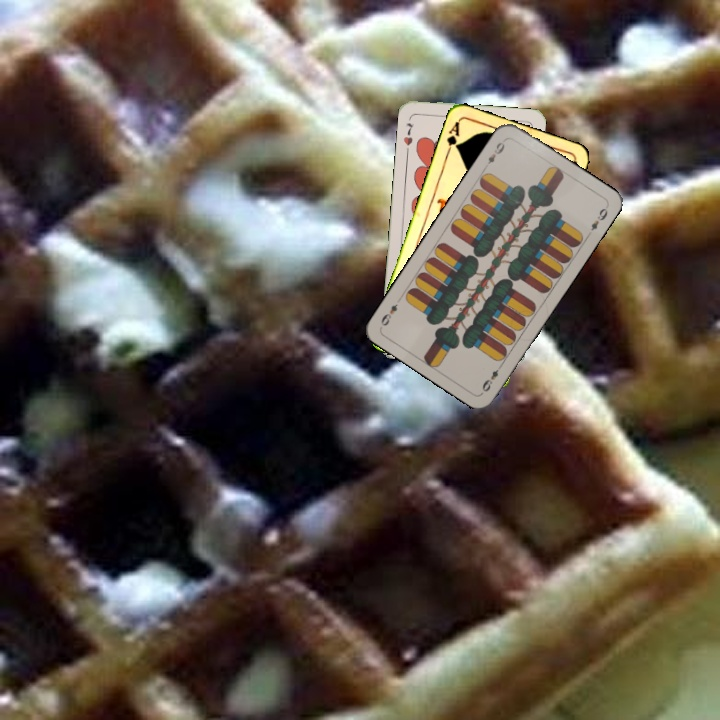E9: (480, 135, 508, 171), (478, 359, 505, 395)
GA: (442, 117, 462, 157)
H7: (400, 119, 416, 148)
